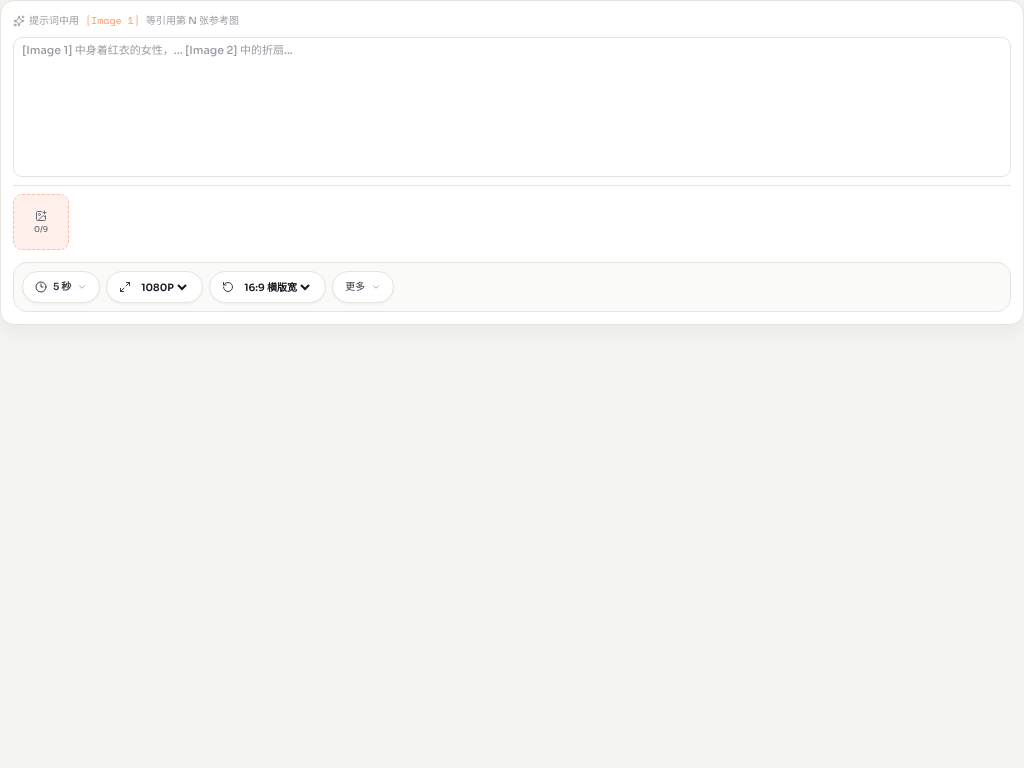
Test: HappyHorseCard 完整参数 › 显示 watermark + seed
Click the button with aria-label "高级设置" at coordinates (363, 287), box [332,271,394,303]
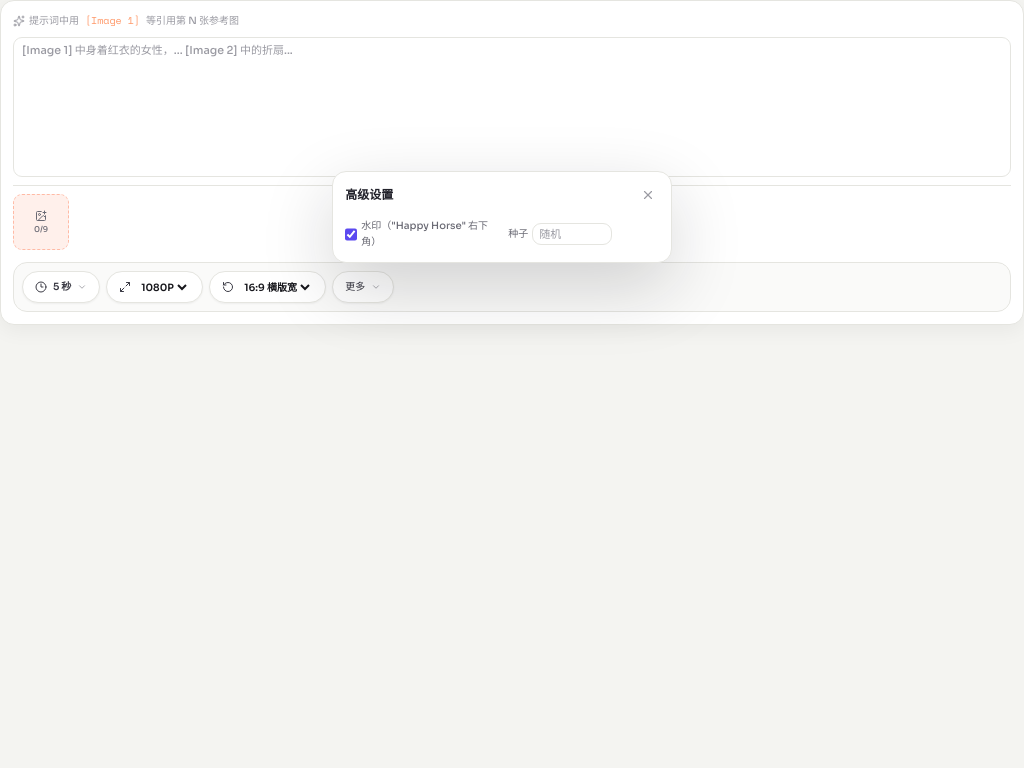
Expected: the checkbox labelled "水印（\"Happy Horse\" 右下角）" is shown, [345,228,357,240]
Expected: the number field labelled "种子" is shown, [532,223,612,245]
